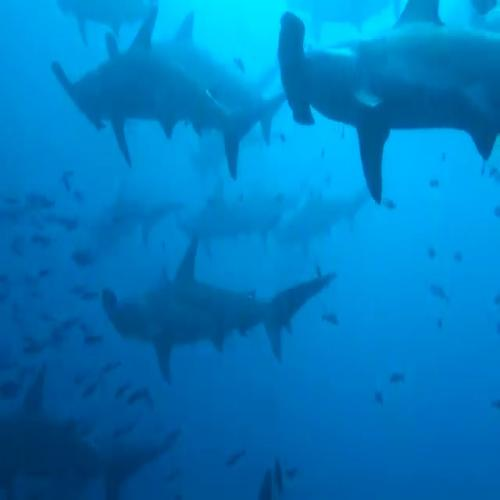shark-endangered: (276, 0, 500, 202), (53, 11, 262, 184), (102, 231, 336, 382)
